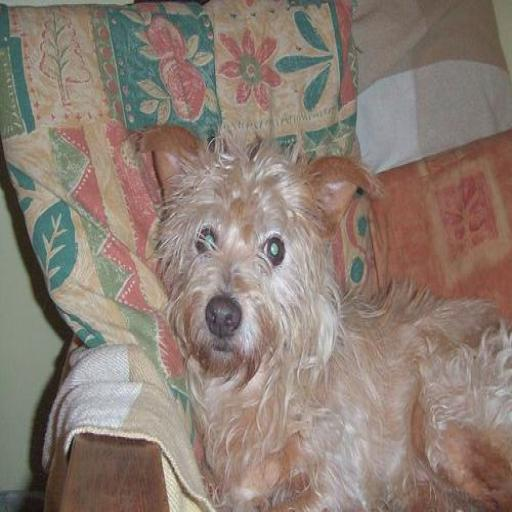dog_face: (147, 134, 371, 362)
